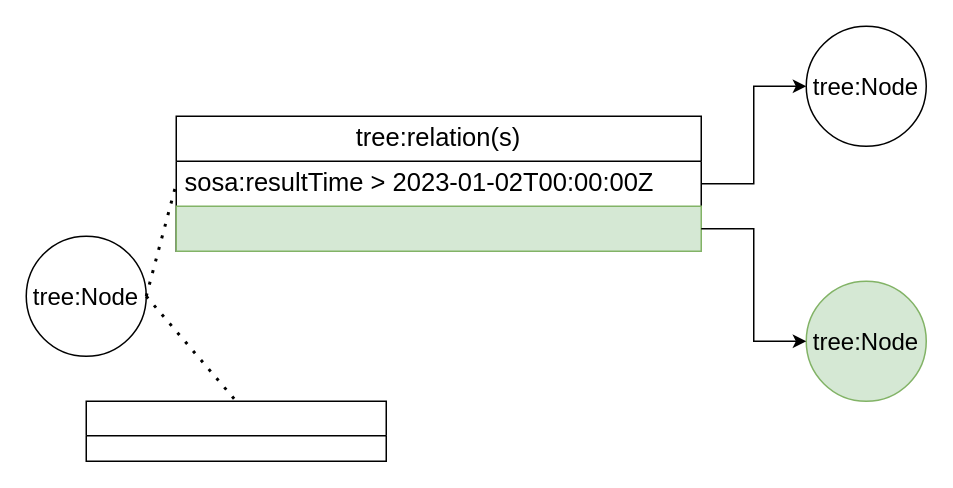
Some shapes in this 953 by 488 pixel diagram are drawn without their labels. The shapes that lost their labels are listed below. From the top down, each one's centre as x and y in pixels, then its label:
point 438,228: sosa:resultTime < 2023-01-02T00:00:00Z
point 235,430: rest of the triples
